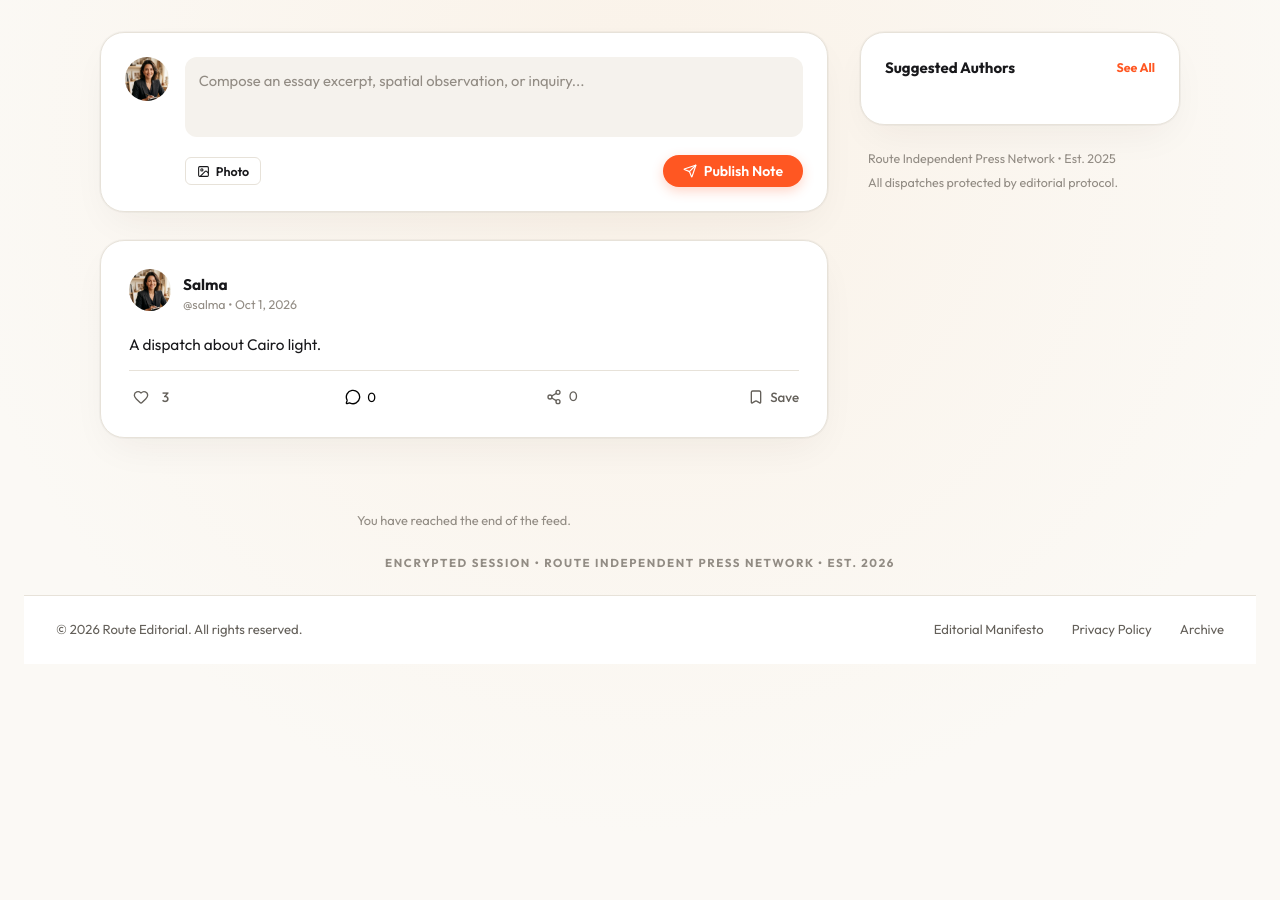
Test: Feed like/bookmark interactions › ignores a double-click on bookmark while pending
The width and height of the screenshot is (1280, 900).
Expected: the text "A dispatch about Cairo light." is shown, [129,335,321,354]
Click the button "Save" at (773, 396), box [748,388,799,404]
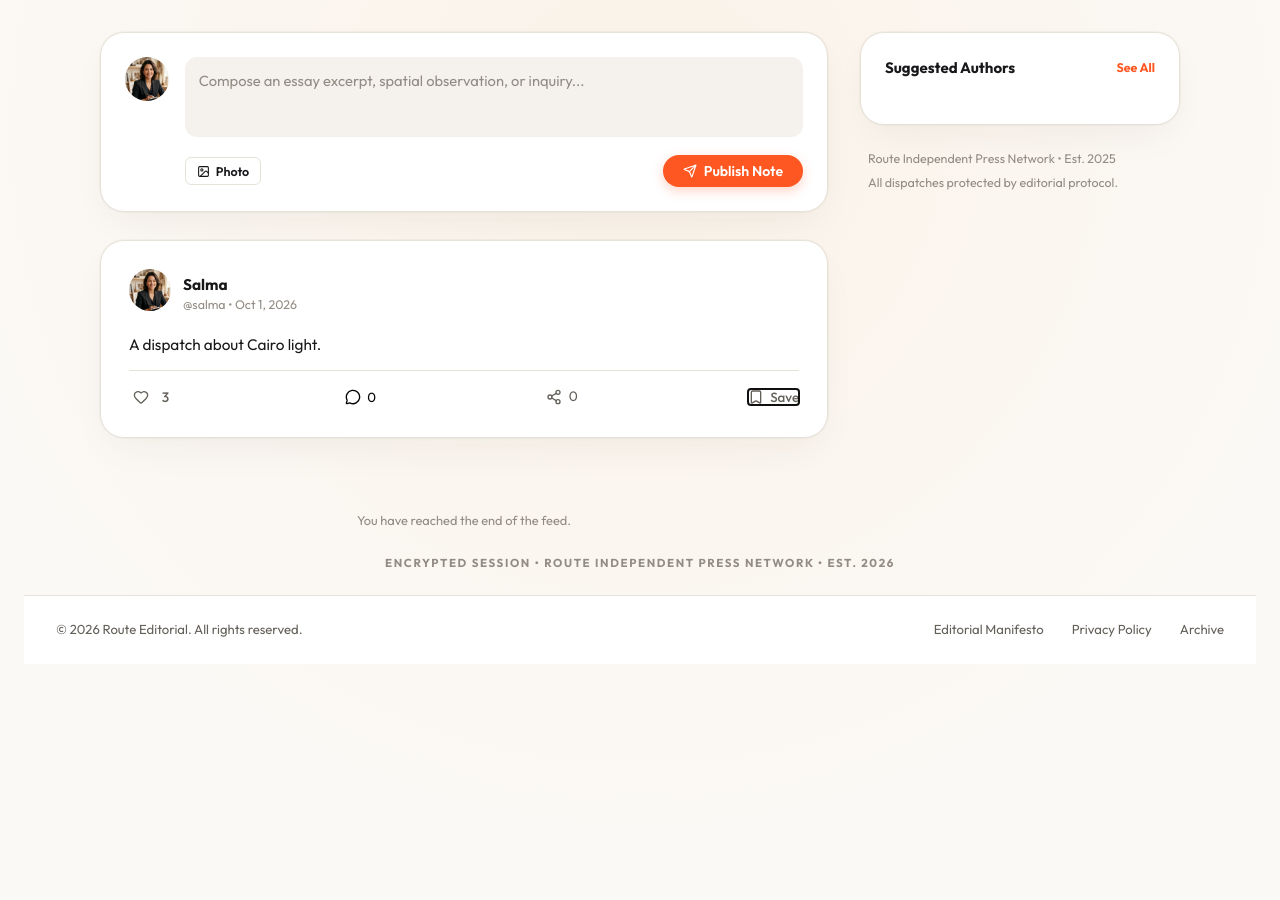
Click the button "Save" at (773, 396), box [748,388,799,404]
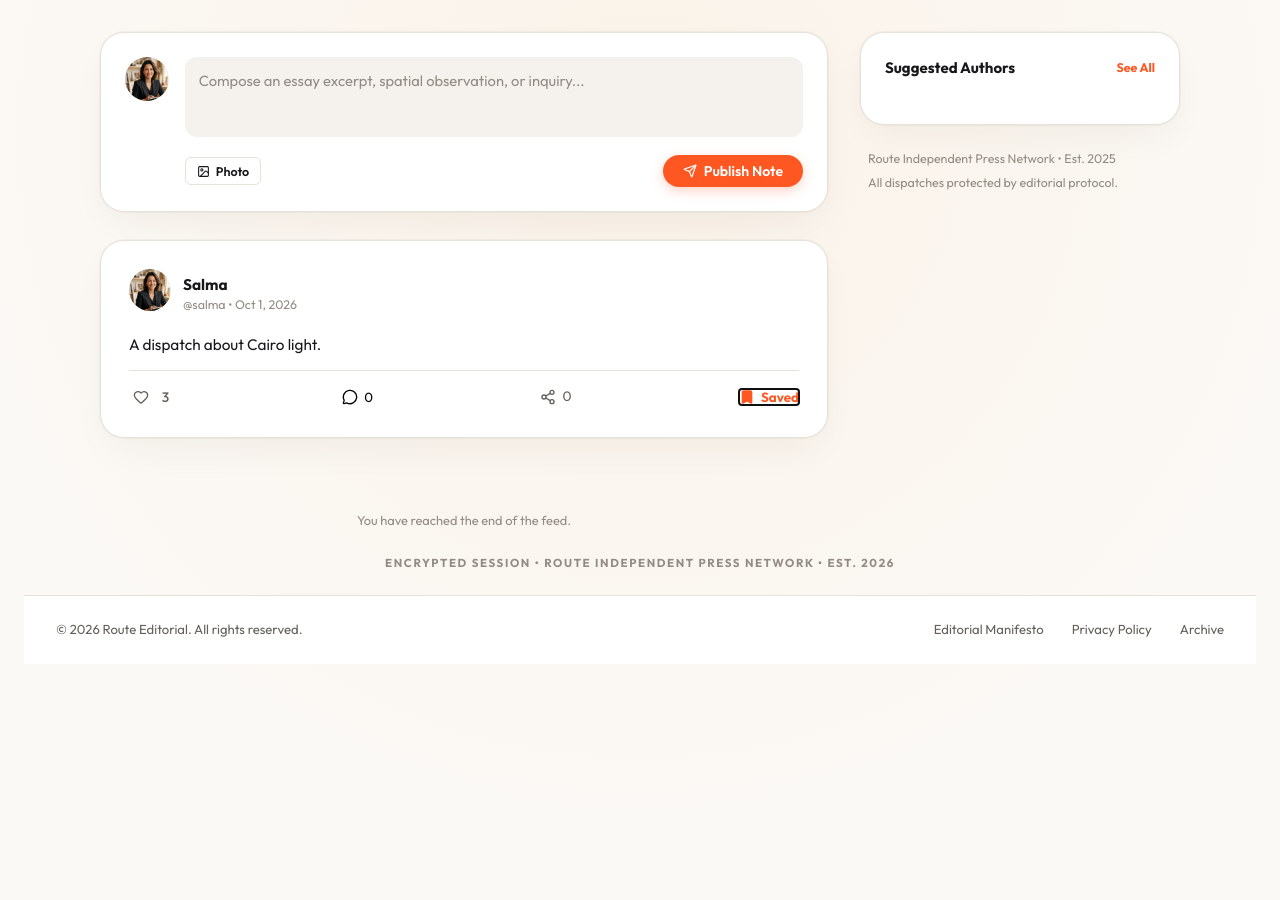
Result: the button "Saved" is shown at [739,388,799,404]
